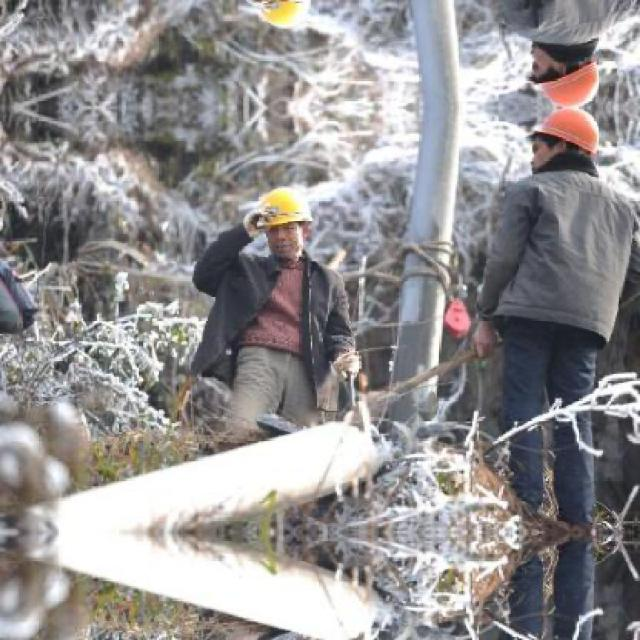con casco: (494, 114, 614, 188), (232, 195, 330, 258)
